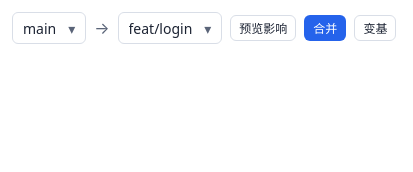
Test case: MergePanel（T6-04 合并） › 预览影响展示引入提交数与文件数
The image size is (413, 172).
Click the button with test id "merge-preview-action": coordinates (263, 28) [230,15,296,41]
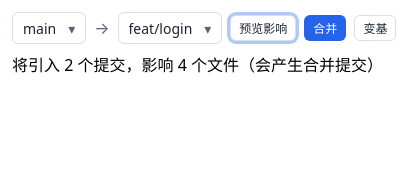
Expected: the message with test id "merge-preview" shows "将引入 2 个提交，影响 4 个文件", [12,54,383,76]
